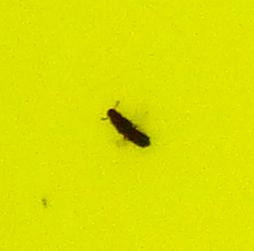Coleoptera: (100, 100, 154, 151)
